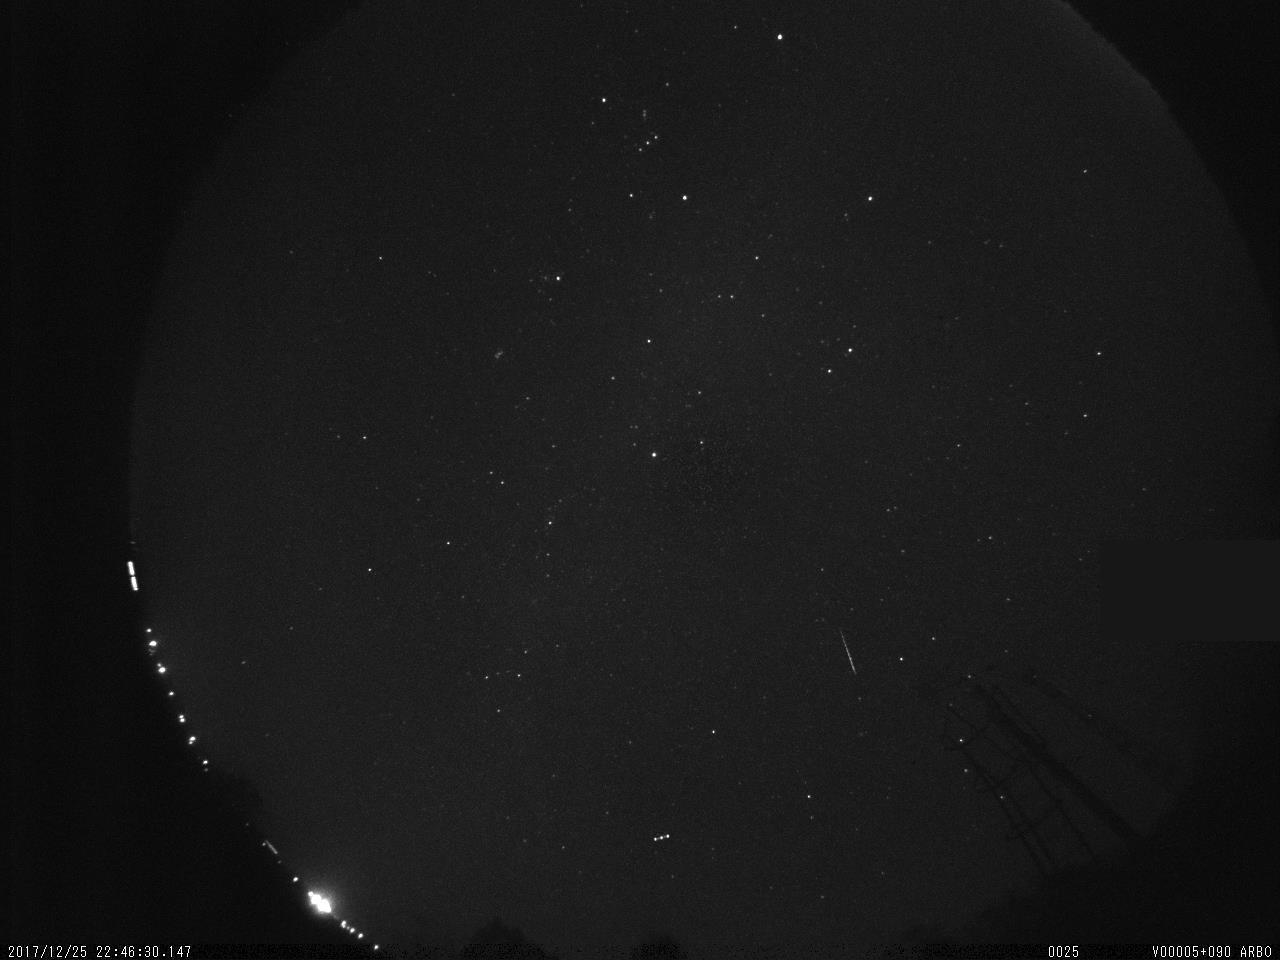Meteor: (835, 624, 861, 678)
